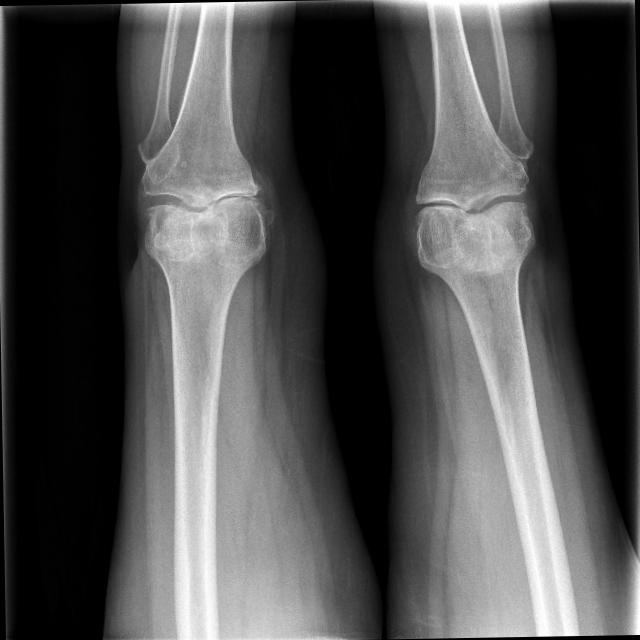Knee: (410, 153, 534, 270), (136, 158, 266, 264)
